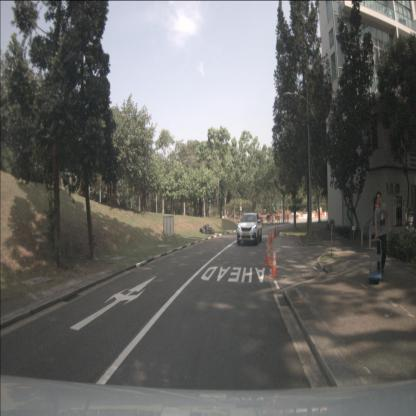human-pedestrian-adult: (374, 191, 391, 273)
movable_object-barrier: (266, 216, 271, 222), (275, 216, 280, 221), (270, 216, 275, 221), (279, 215, 284, 220), (262, 216, 266, 222), (289, 215, 294, 219), (299, 214, 303, 219), (314, 213, 318, 218), (303, 214, 307, 219), (284, 215, 289, 219), (294, 215, 298, 219), (311, 213, 314, 218), (319, 213, 322, 217), (326, 212, 329, 216), (322, 212, 324, 217), (324, 212, 326, 216)
movable_object-trafficcone: (269, 248, 279, 277), (265, 242, 273, 267), (264, 240, 270, 261), (273, 226, 277, 238), (270, 229, 273, 243), (272, 229, 275, 240), (277, 226, 279, 235)
vehicle-car: (237, 212, 262, 246)
